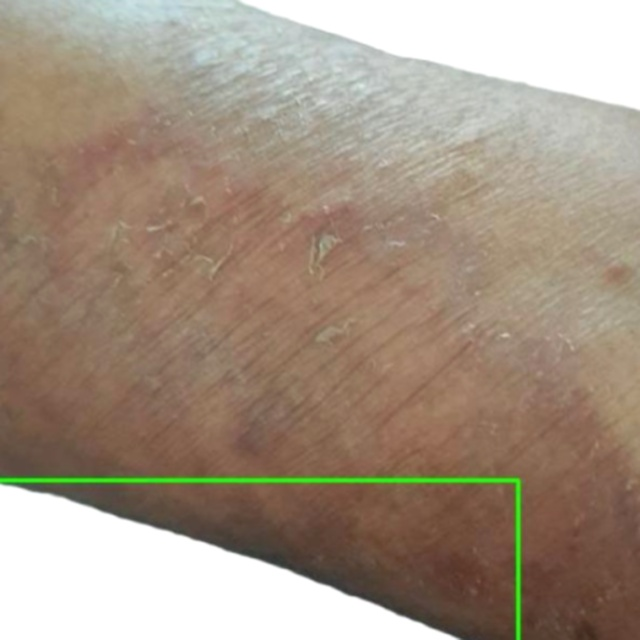Tinea Corporis: (0, 480, 518, 639)
